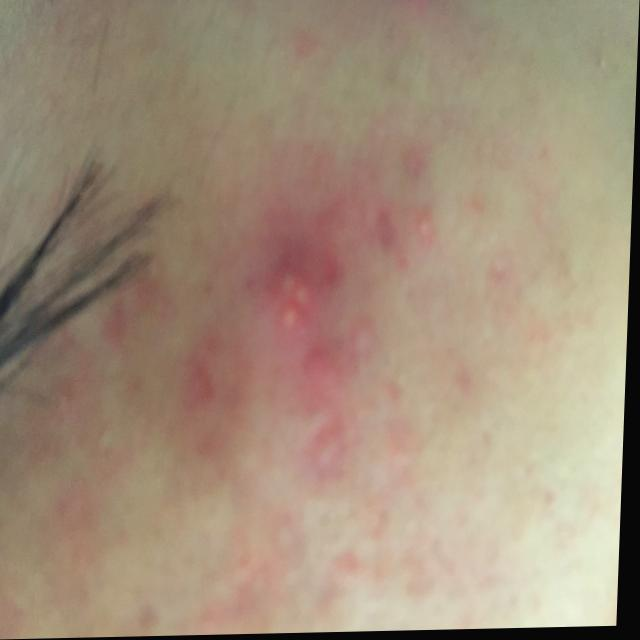blackheads: (269, 307, 305, 340), (274, 264, 303, 297), (415, 210, 434, 239)
